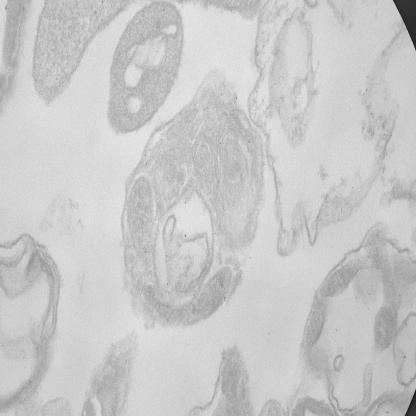mitochondria: (107, 0, 184, 137)
